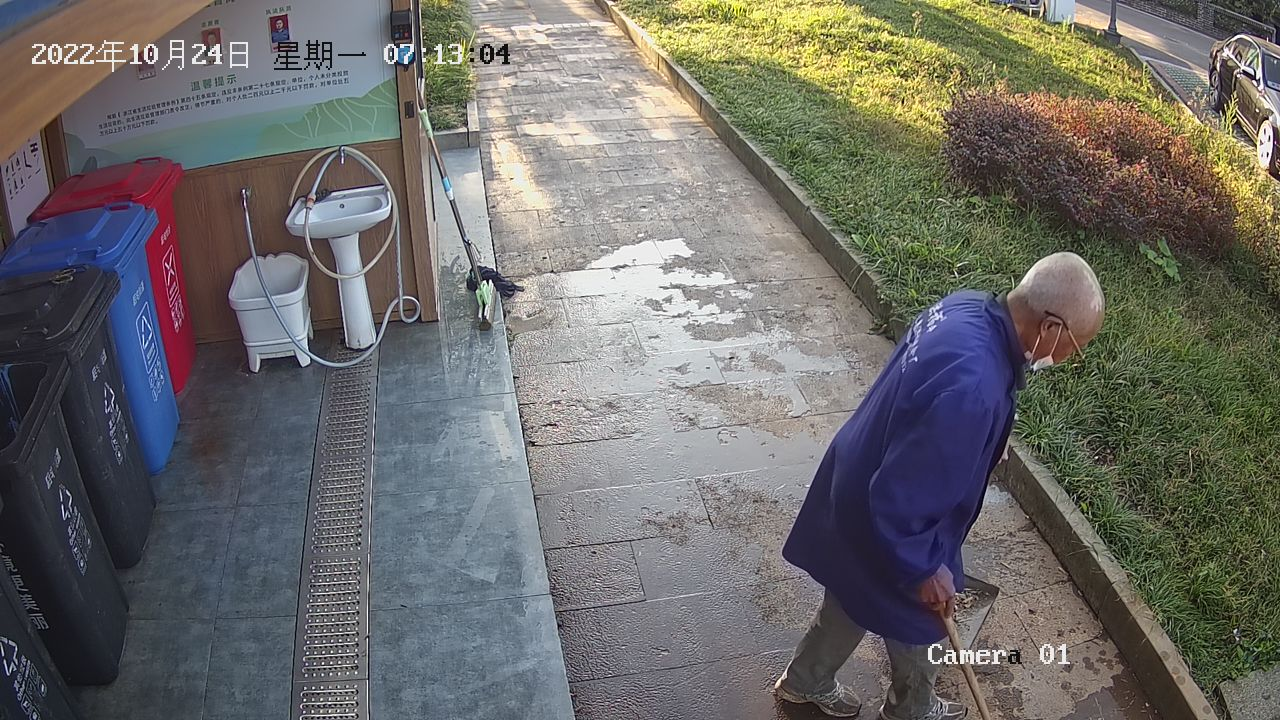worker: (767, 245, 1111, 720)
